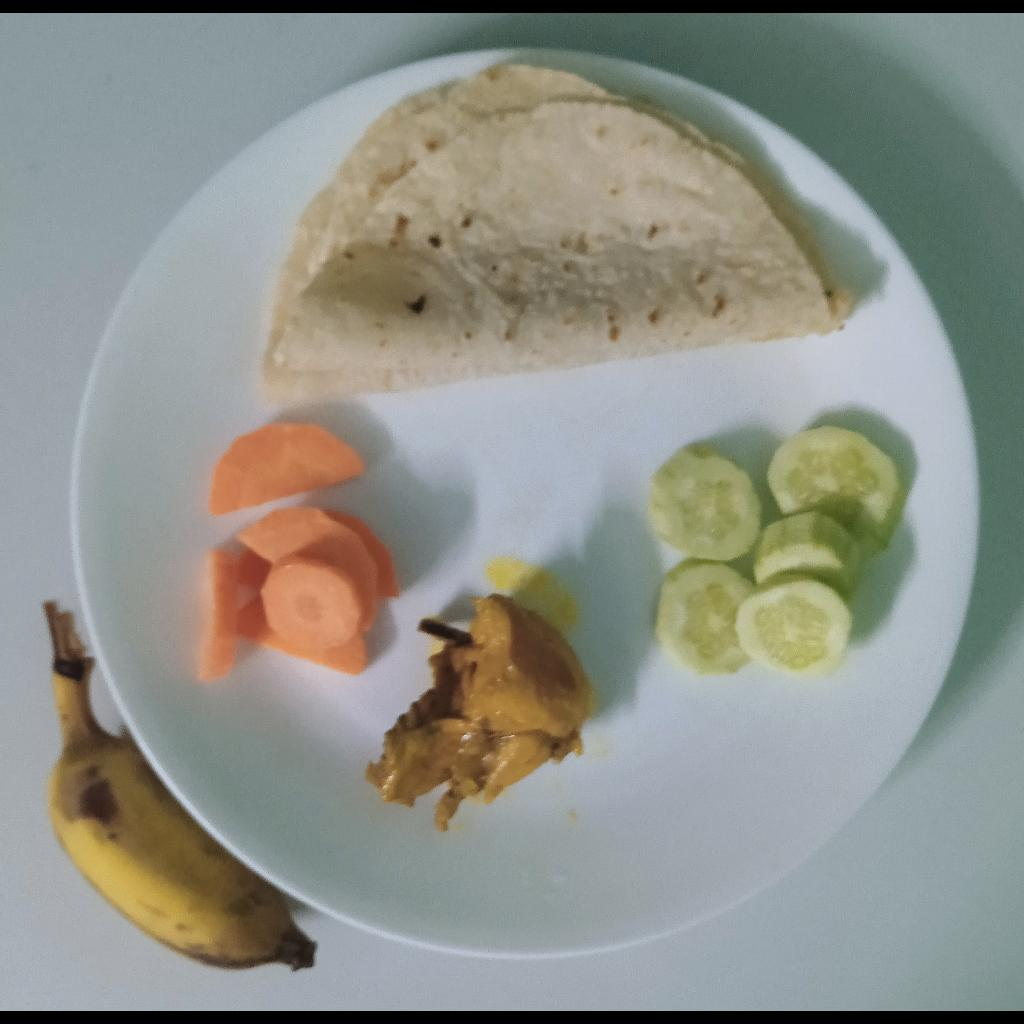banana: (43, 598, 317, 973)
carrot: (207, 424, 367, 517)
chicken: (360, 598, 594, 830)
cucumber: (645, 424, 909, 683), (198, 507, 401, 683)
ruti: (254, 59, 859, 409)
